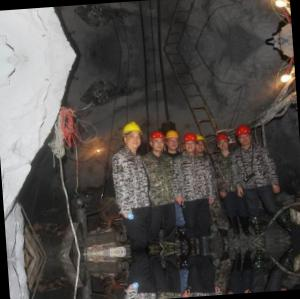helmet: (123, 120, 148, 153), (165, 127, 184, 153), (236, 125, 255, 148), (216, 131, 233, 153), (151, 131, 167, 154), (185, 131, 201, 153), (196, 134, 207, 156)
